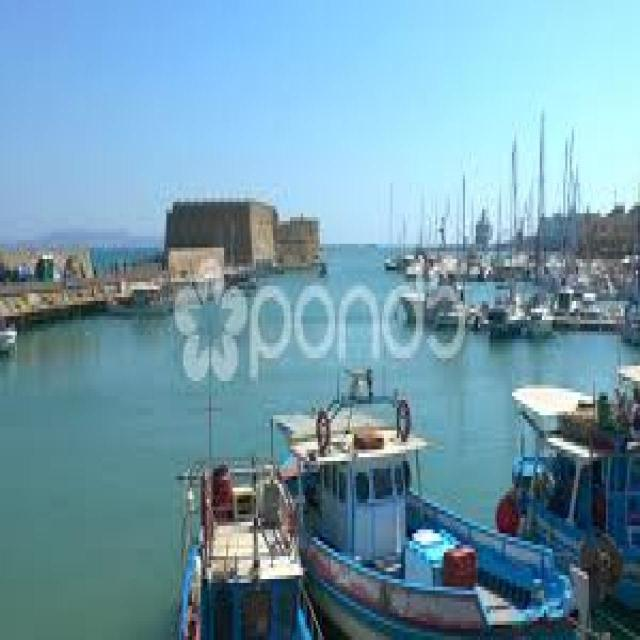Kules: (165, 192, 326, 282)
